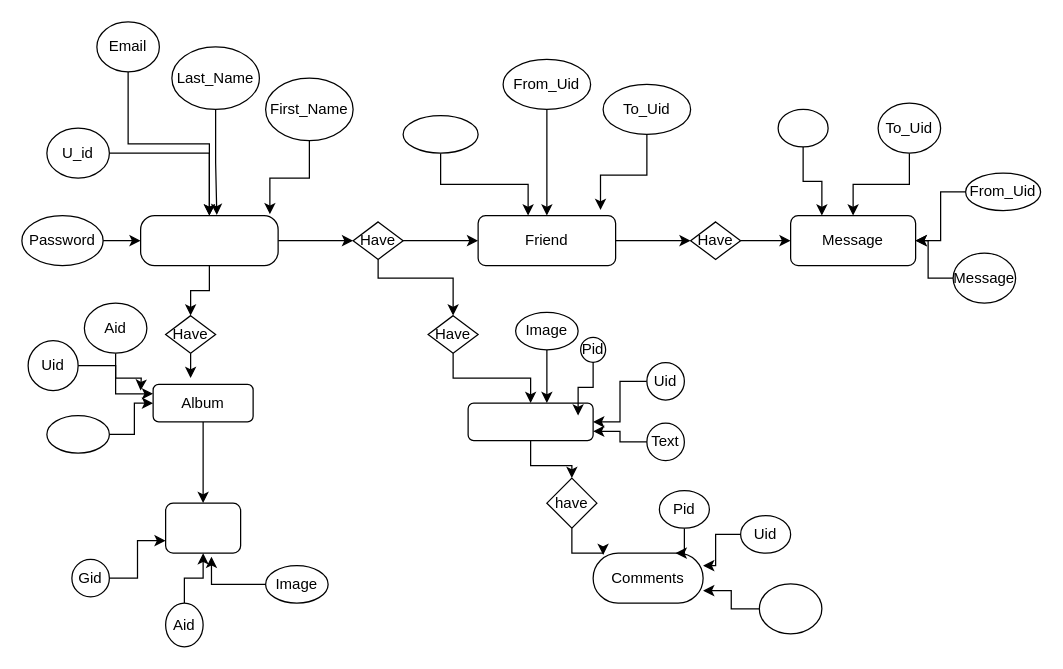
Some shapes in this 1063 by 669 pixel diagram are drawn without their labels. Here are the shapes that lost their labels. From the top down, the box of each, then its label:
(402, 114, 478, 153): F_id
(777, 108, 828, 147): Mid
(139, 214, 278, 266): User
(46, 414, 109, 453): Aname
(467, 402, 593, 441): Post
(164, 502, 241, 553): Gallery
(758, 582, 822, 634): Comment
